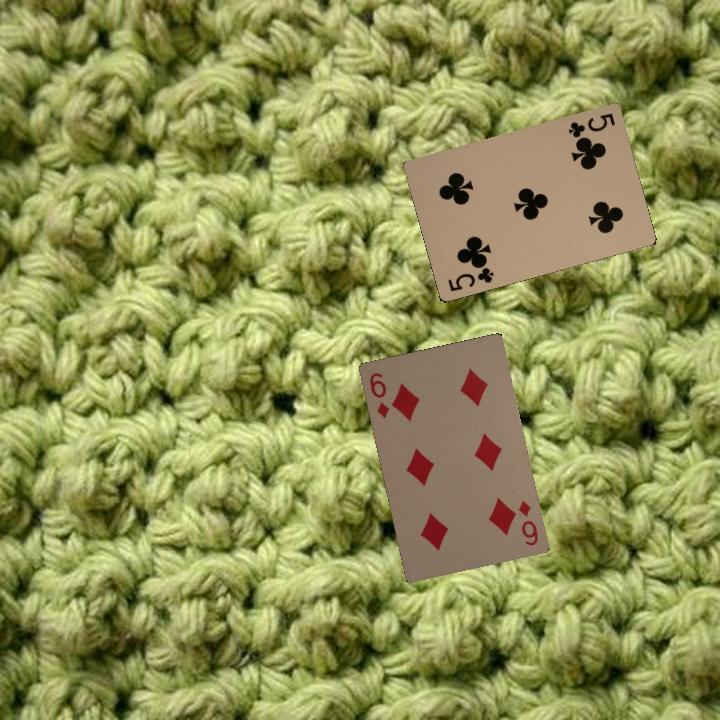5c: (444, 260, 497, 294), (564, 109, 617, 143)
6d: (365, 368, 392, 421), (514, 496, 541, 548)
